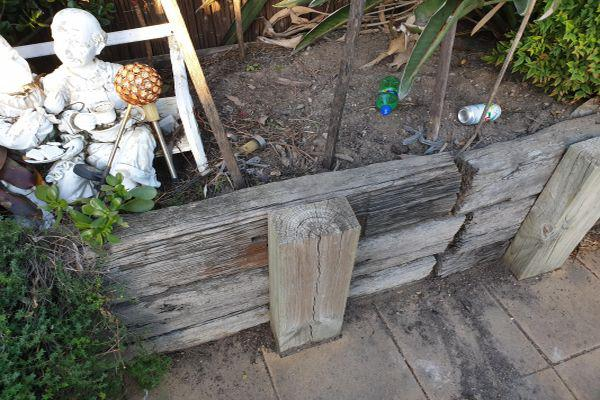Plastic Bottle: (374, 75, 401, 117), (457, 102, 502, 126)
